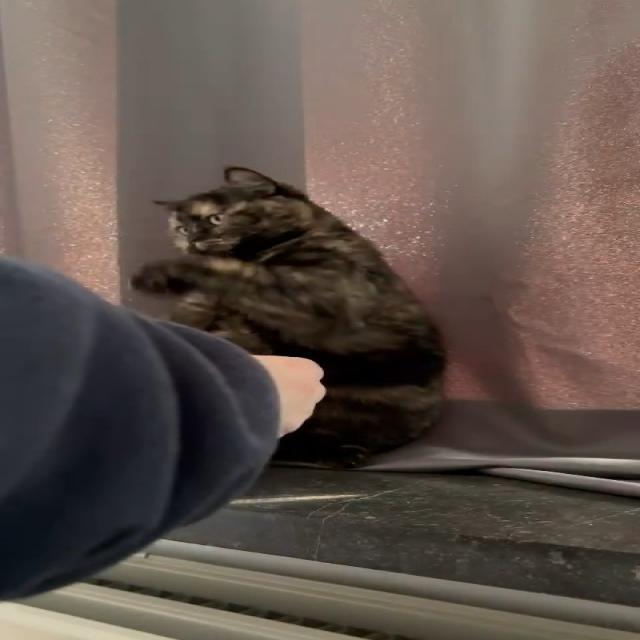authorized: (128, 166, 448, 470)
